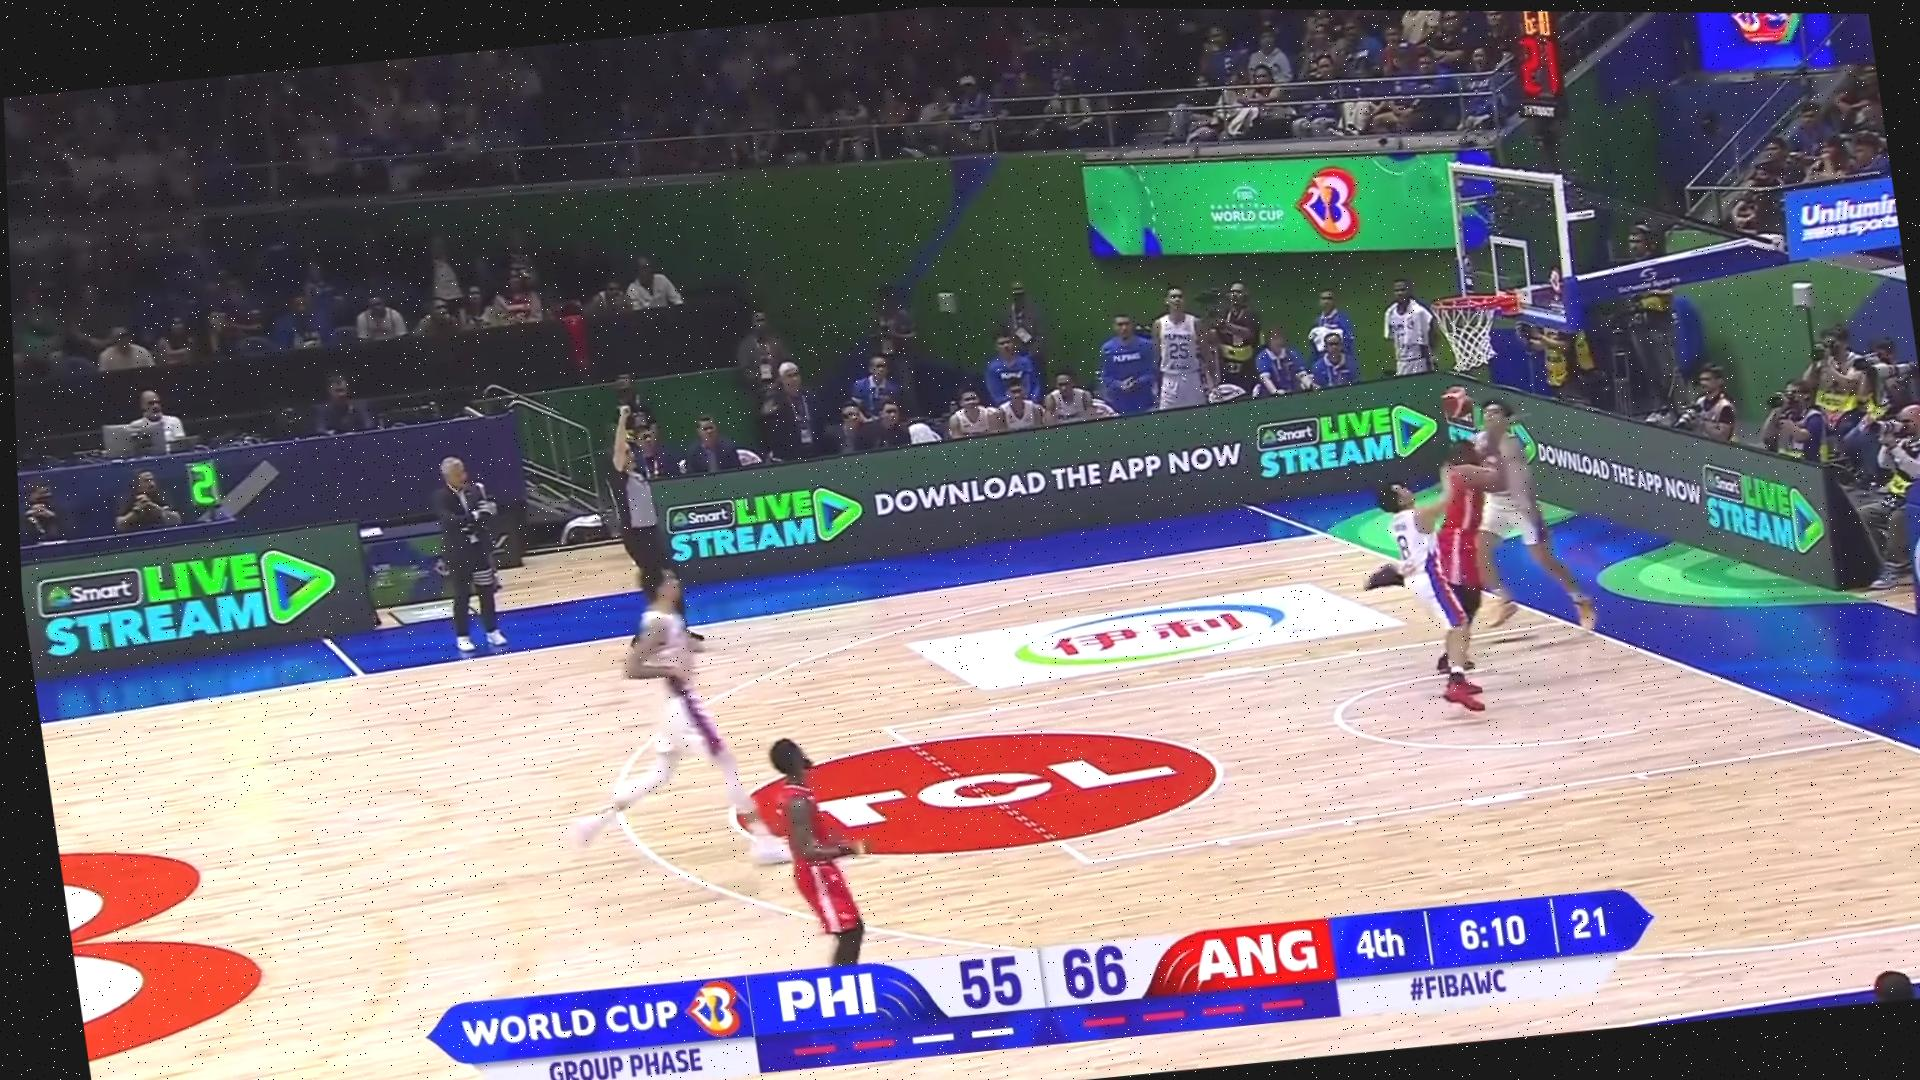foul: (1317, 410, 1557, 721)
